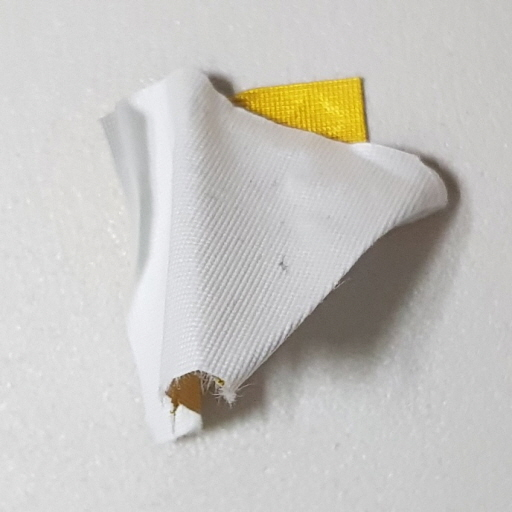Paper_3: (92, 58, 453, 461)
